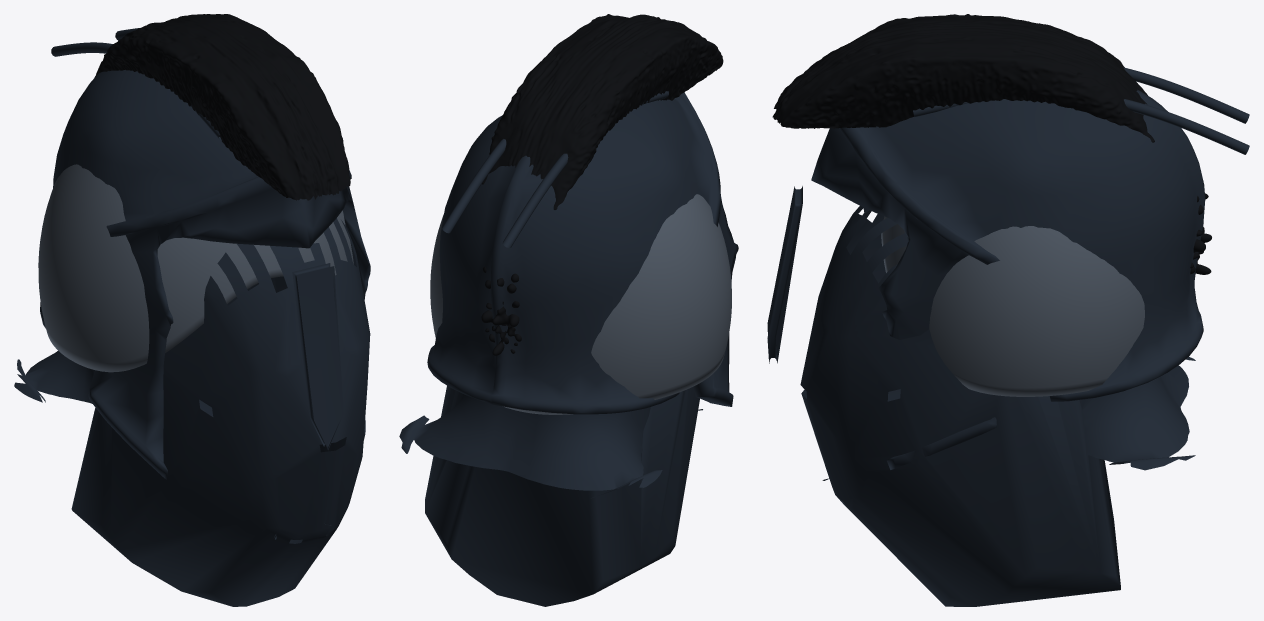
The model's file is leonidas-aqueo-dark-original-v6.glb.
The picture shows the model from 3 angles, left to right: view 1: azimuth 30°, elevation 25°; view 2: azimuth 150°, elevation 25°; view 3: azimuth 270°, elevation 25°; orthographic projection. The views are drawn at different scales.
Parts seen in each view (by area): view 1: AqueoDarkV6_OriginalAnatomicalShell, Aqueo_FitReference, AqueoDarkV6_DenseSagittalCrest, AqueoDarkV6_ForgedNasal, AqueoDarkV6_CrestRail_-0.021; view 2: AqueoDarkV6_OriginalAnatomicalShell, AqueoDarkV6_DenseSagittalCrest, Aqueo_FitReference, AqueoDarkV6_CrestRail_-0.021, AqueoDarkV6_CrestRail_+0.021; view 3: AqueoDarkV6_OriginalAnatomicalShell, AqueoDarkV6_DenseSagittalCrest, Aqueo_FitReference, AqueoDarkV6_ForgedNasal, AqueoDarkV6_CrestRail_+0.021, AqueoDarkV6_CrestRail_-0.021.
Part boxes in pixels (x1,y1,x2,y2): AqueoDarkV6_OriginalAnatomicalShell: (14, 70, 370, 606); Aqueo_FitReference: (38, 164, 353, 372); AqueoDarkV6_DenseSagittalCrest: (94, 14, 350, 200); AqueoDarkV6_ForgedNasal: (292, 263, 343, 449); AqueoDarkV6_CrestRail_-0.021: (51, 42, 221, 140); AqueoDarkV6_OriginalAnatomicalShell: (399, 92, 738, 606); AqueoDarkV6_DenseSagittalCrest: (481, 14, 723, 355); Aqueo_FitReference: (430, 194, 731, 414); AqueoDarkV6_CrestRail_-0.021: (502, 91, 668, 247); AqueoDarkV6_CrestRail_+0.021: (442, 139, 506, 233); AqueoDarkV6_OriginalAnatomicalShell: (800, 89, 1205, 606); AqueoDarkV6_DenseSagittalCrest: (772, 14, 1211, 274); Aqueo_FitReference: (881, 216, 1144, 396); AqueoDarkV6_ForgedNasal: (767, 186, 802, 363); AqueoDarkV6_CrestRail_+0.021: (913, 99, 1249, 154); AqueoDarkV6_CrestRail_-0.021: (1123, 67, 1249, 123).
Bounding box in the file's own units: 0.1852 × 0.35 × 0.2745.
